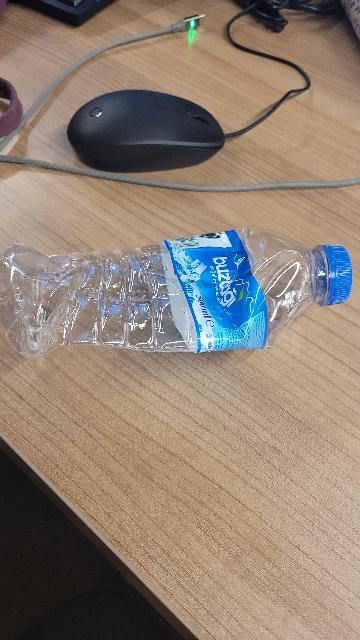Plastik: (3, 229, 360, 365)
